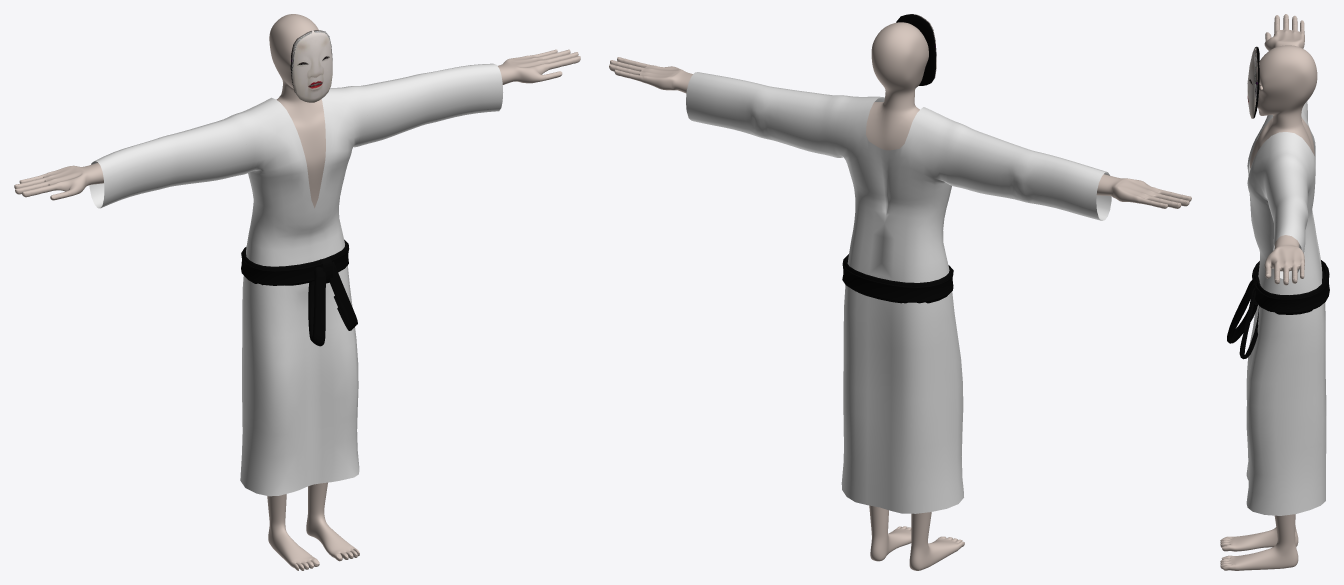
File: Narehate.fbx
3 renders of one model, left to right at view 1: azimuth 30°, elevation 25°; view 2: azimuth 150°, elevation 25°; view 3: azimuth 270°, elevation 25°, orthographic. The views are drawn at different scales.
Visible parts, largest first — view 1: cloth, body, 立方体, トーラス.002, トーラス.001; view 2: cloth, body, トーラス.001, 立方体; view 3: cloth, body, トーラス.001, トーラス.002, 立方体.
Boxes of the visible parts, x1,y1,x2,y2 form: cloth: (89,63,503,496); body: (14,14,580,570); 立方体: (290,30,332,102); トーラス.002: (308,257,357,346); トーラス.001: (241,239,349,285); cloth: (686,72,1111,513); body: (609,22,1191,570); トーラス.001: (842,254,953,303); 立方体: (896,14,936,85); cloth: (1246,101,1326,515); body: (1220,14,1317,570); トーラス.001: (1252,260,1329,314); トーラス.002: (1227,278,1260,359); 立方体: (1247,46,1259,118).
Bounding box in the file's own units: 2142 × 1904 × 372.
